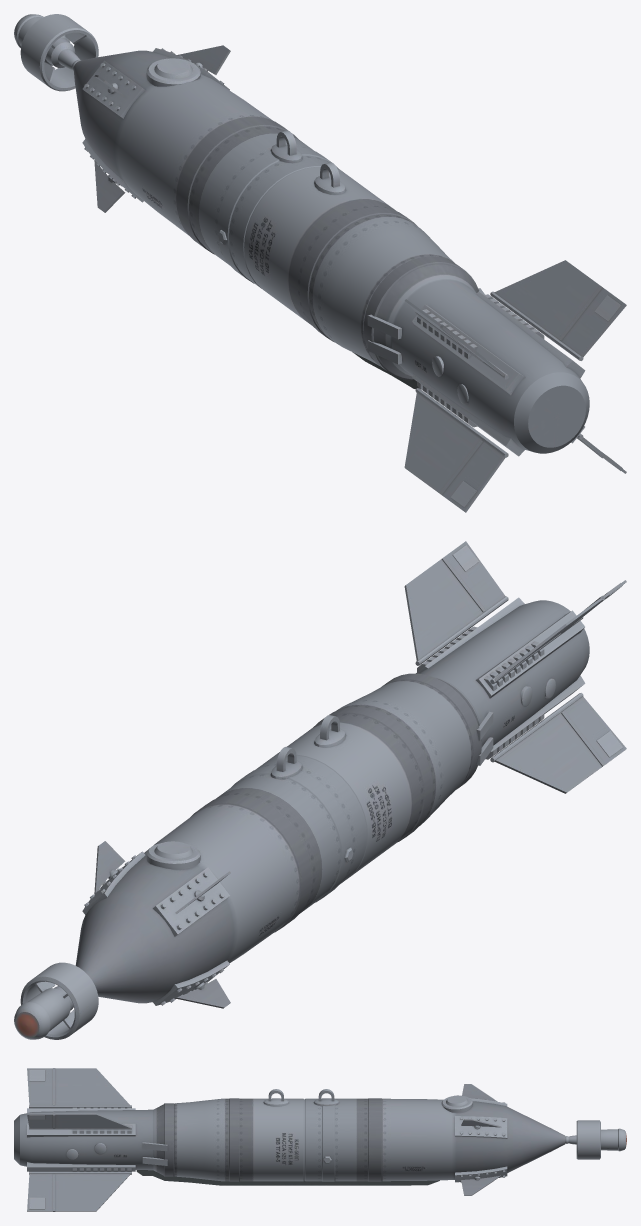
The model's file is kab500l.glb.
The picture shows the model from 3 angles, top to bottom: view 1: azimuth 30°, elevation 25°; view 2: azimuth 150°, elevation 25°; view 3: azimuth 270°, elevation 25°; orthographic projection. The views are drawn at different scales.
Visible parts, largest first — view 1: K5L_body, wing_0, wing_2, K5L_planks, seeker, K5L_plates, K5L_lugs, K5L_bits, K5L_hatch, canard_2, canard_0, wing_1; view 2: K5L_body, wing_2, wing_0, seeker, K5L_planks, K5L_plates, K5L_lugs, K5L_hatch, K5L_bits, wing_1, canard_2, canard_0; view 3: K5L_body, wing_3, wing_1, K5L_planks, seeker, K5L_plates, K5L_box, wing_0, K5L_bits, K5L_lugs, K5L_hatch, canard_3 (+2 smaller).
Boxes of the visible parts, x1,y1,x2,y2 form: K5L_body: (73,50,589,453); wing_0: (490,260,626,360); wing_2: (404,388,508,512); K5L_planks: (412,291,585,456); seeker: (14,14,98,91); K5L_plates: (82,48,229,202); K5L_lugs: (270,130,346,194); K5L_bits: (218,230,484,404); K5L_hatch: (146,58,200,86); canard_2: (94,160,125,212); canard_0: (177,45,230,74); wing_1: (404,299,508,379); K5L_body: (75,600,589,1003); wing_2: (490,693,626,793); wing_0: (404,541,508,665); seeker: (14,962,98,1039); K5L_planks: (416,597,585,759); K5L_plates: (82,851,229,1005); K5L_lugs: (270,715,346,779); K5L_hatch: (146,841,200,869); K5L_bits: (344,678,555,862); wing_1: (490,580,626,683); canard_2: (175,979,230,1008); canard_0: (94,841,125,893); K5L_body: (14,1098,565,1181); wing_3: (27,1171,131,1211); wing_1: (27,1068,131,1108); K5L_planks: (27,1107,135,1171); seeker: (565,1120,626,1159); K5L_plates: (455,1098,507,1182); K5L_box: (136,1170,439,1185); wing_0: (27,1112,131,1129); K5L_bits: (66,1142,331,1165); K5L_lugs: (263,1089,339,1106); K5L_hatch: (441,1095,472,1112); canard_3: (461,1175,500,1195).
Size of the model in its own units: 0.5438 by 0.5469 by 3.05.
Materials: 3 (3 with a texture image).
